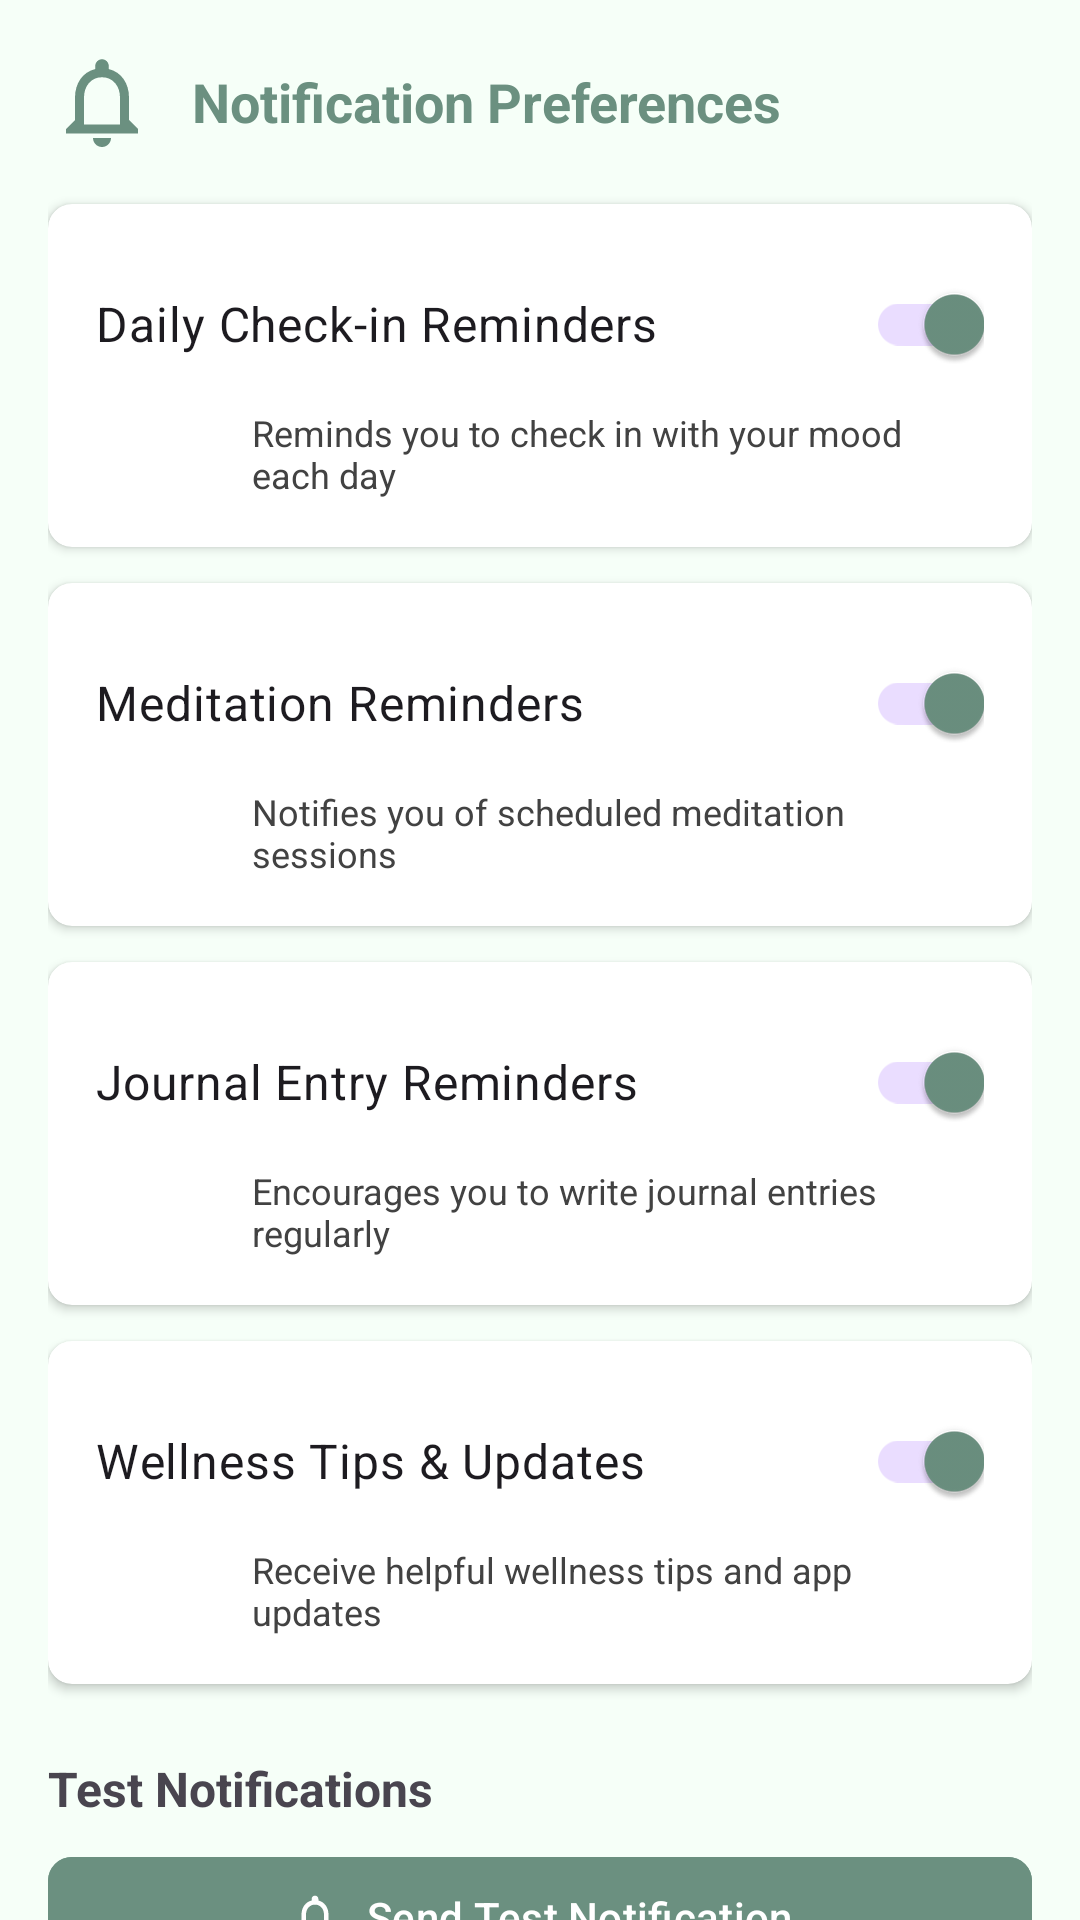

Named icons in this screenshot (1080w x 1920h) and their bounding boxes, (x1, y1, x2, y2):
Notifications: (66, 59, 138, 147)
